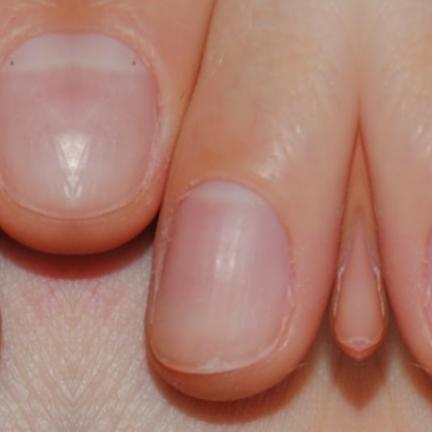Nail: (150, 178, 290, 374), (73, 34, 155, 217), (0, 34, 71, 217), (427, 229, 432, 323)
